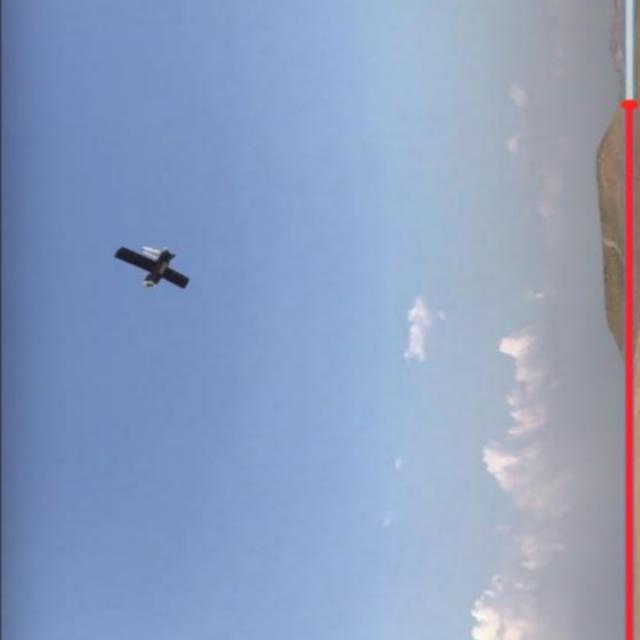plane: (110, 243, 188, 290)
